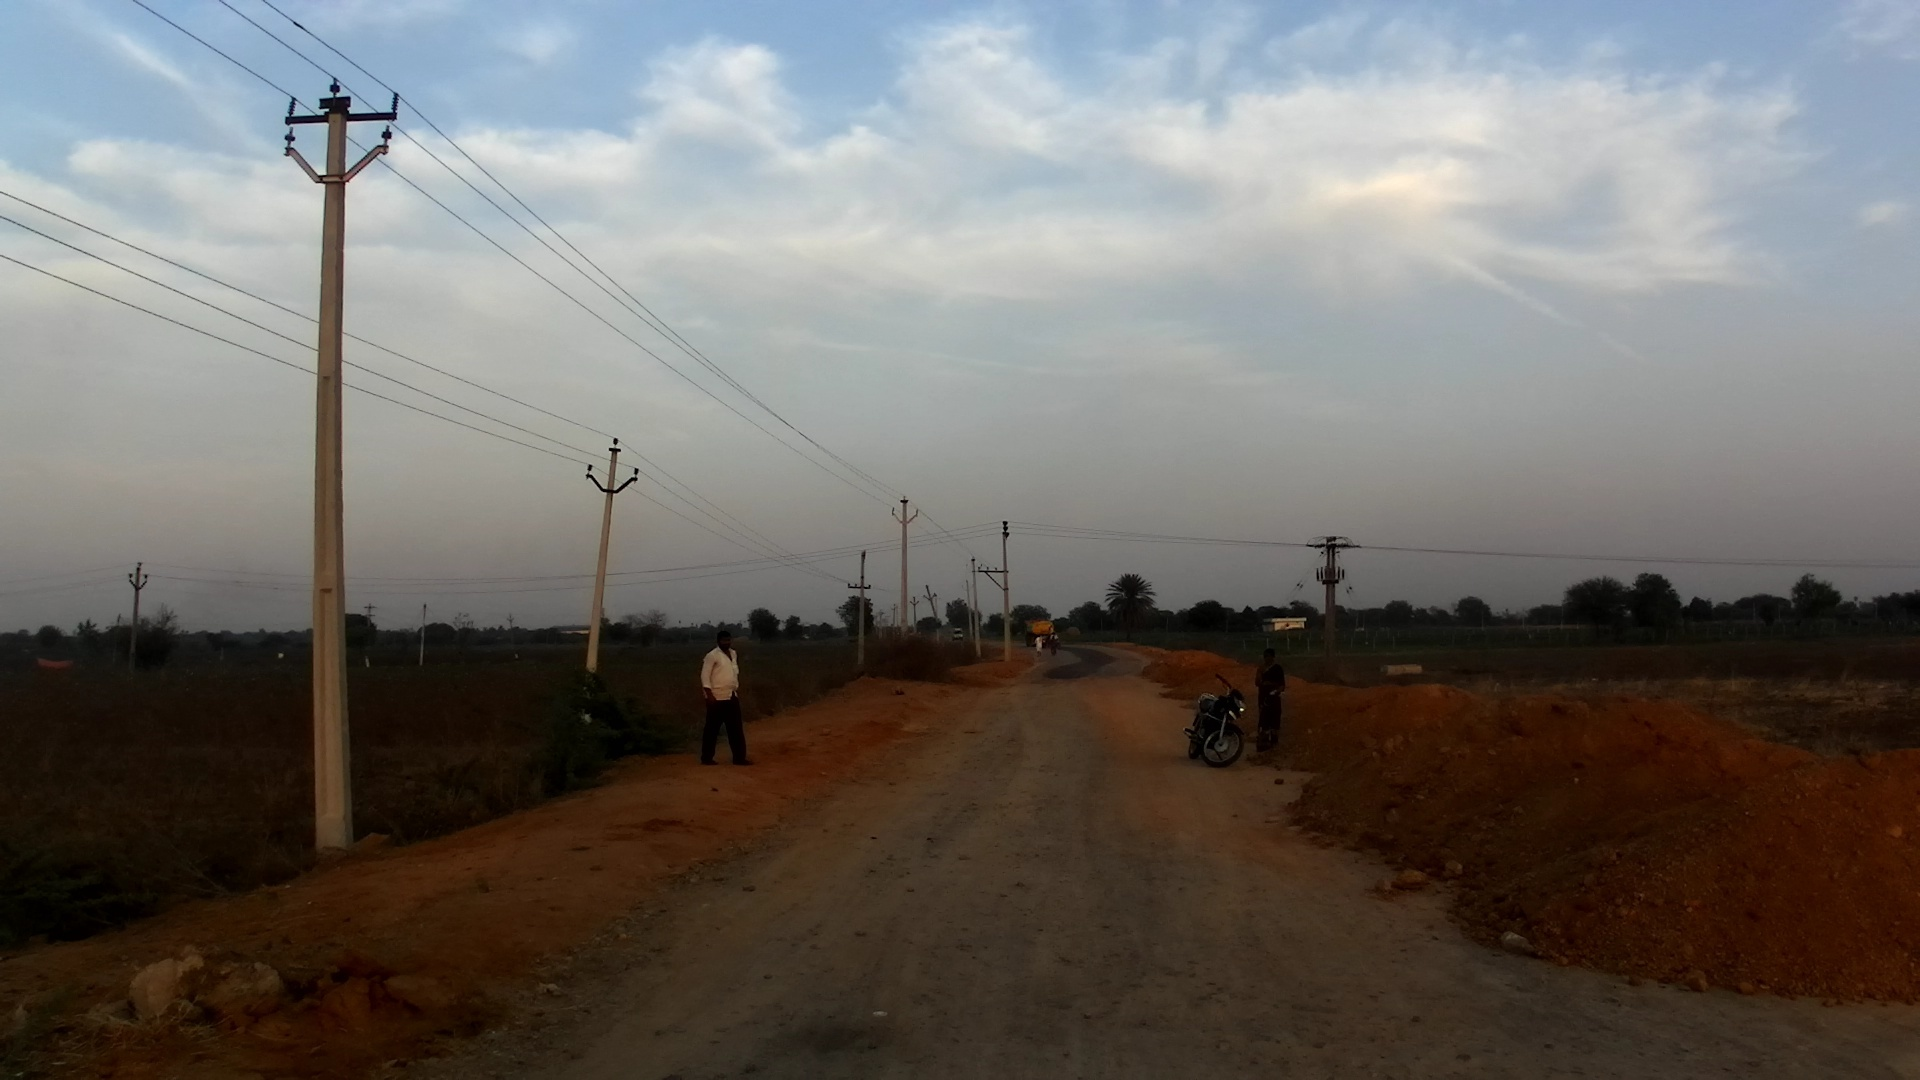car: (953, 629, 964, 645)
motorcycle: (1181, 673, 1250, 770)
person: (694, 628, 752, 775), (1253, 651, 1286, 758), (1047, 630, 1057, 661), (1035, 633, 1046, 662)
